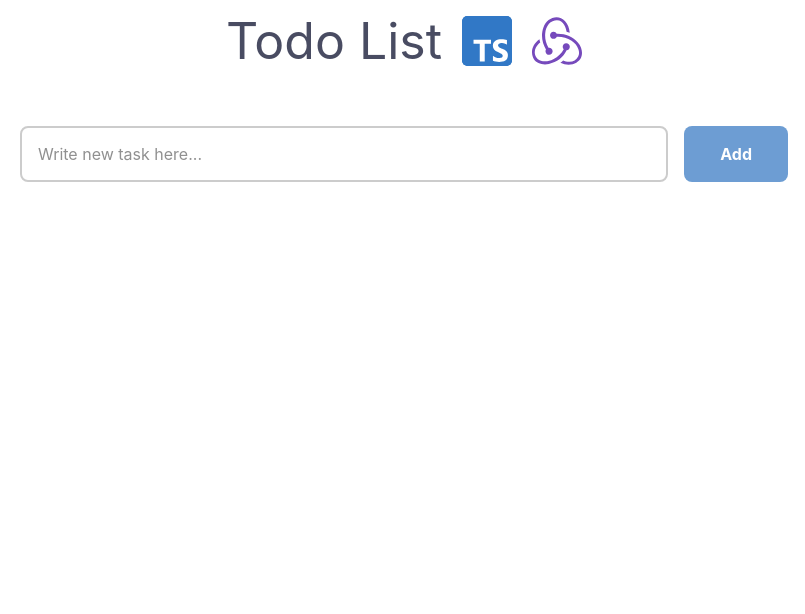
Scenario: My First E2E Test › checks if input still focused after creating todo
The width and height of the screenshot is (805, 614).
In the field with id "new-todo-input": (344, 154) [20,126,668,182], type "Todo number one"
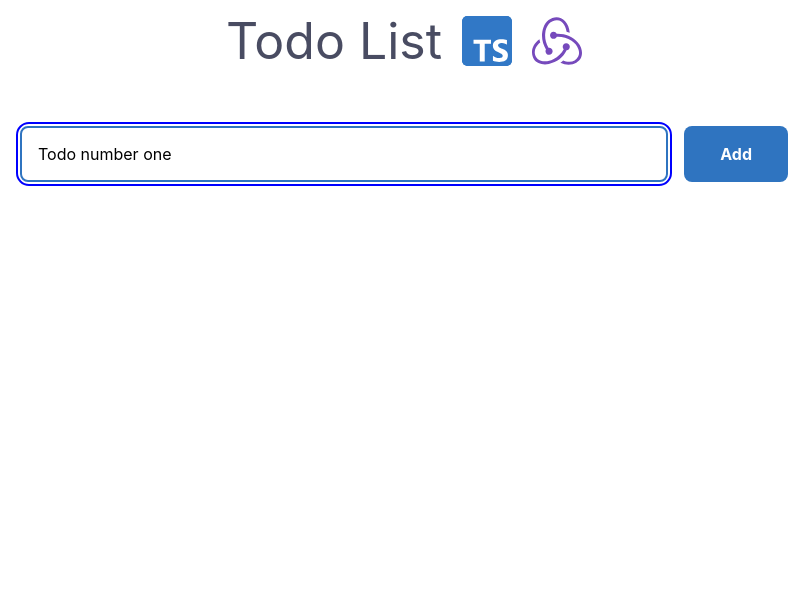
Click the button "Add": (736, 154) [684,126,788,182]
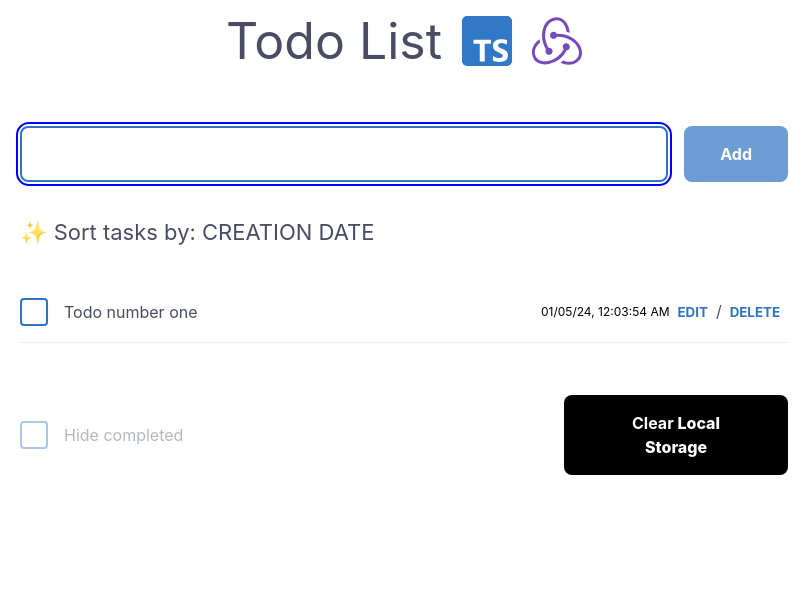
Expected: the checkbox "Todo number one" is shown, [64,300,198,324]
Expected: the number of elements with class "todo-item" is 1, [20,282,788,343]
In the field with id "new-todo-input": (344, 154) [20,126,668,182], type "Todo number two"
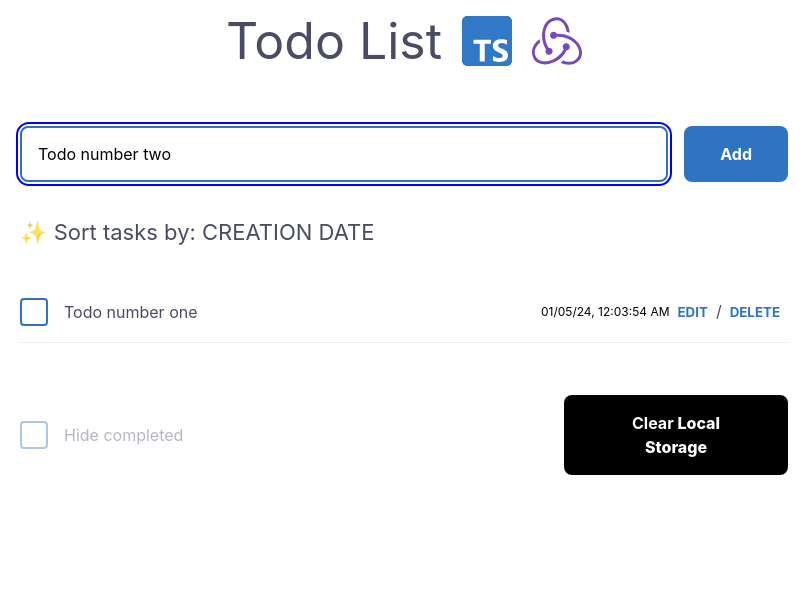
Click the button "Add": (736, 154) [684,126,788,182]
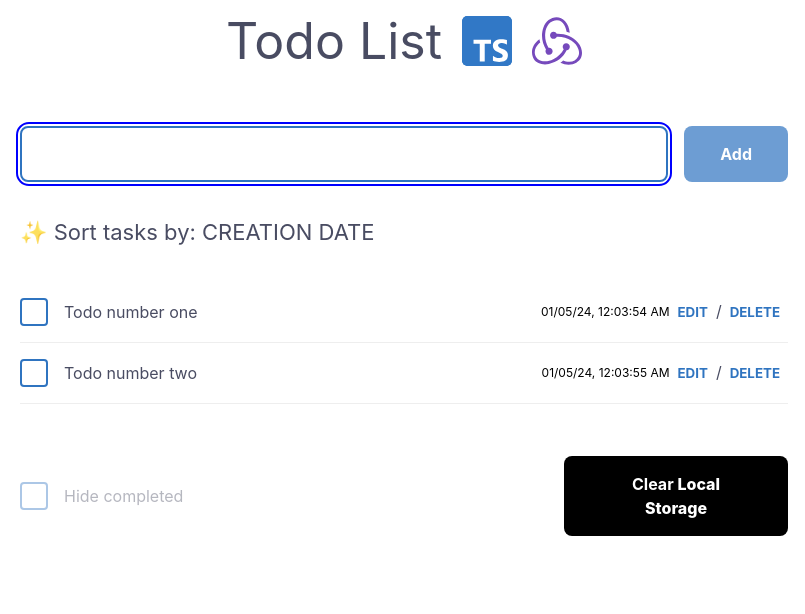
Expected: the checkbox "Todo number two" is shown, [64,361,197,385]
Expected: the number of elements with class "todo-item" is 2, [20,282,788,343]; [20,343,788,404]
In the field with id "new-todo-input": (344, 154) [20,126,668,182], type "Todo number three"
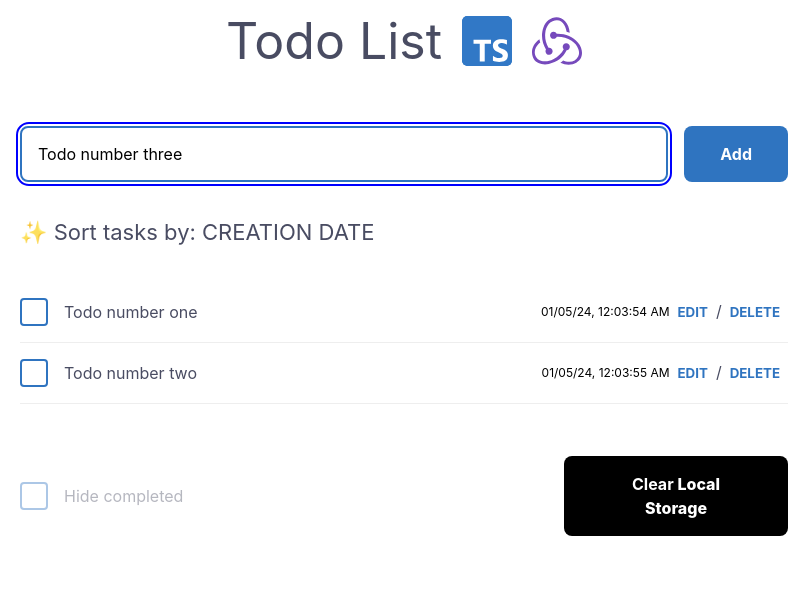
Click the button "Add": (736, 154) [684,126,788,182]
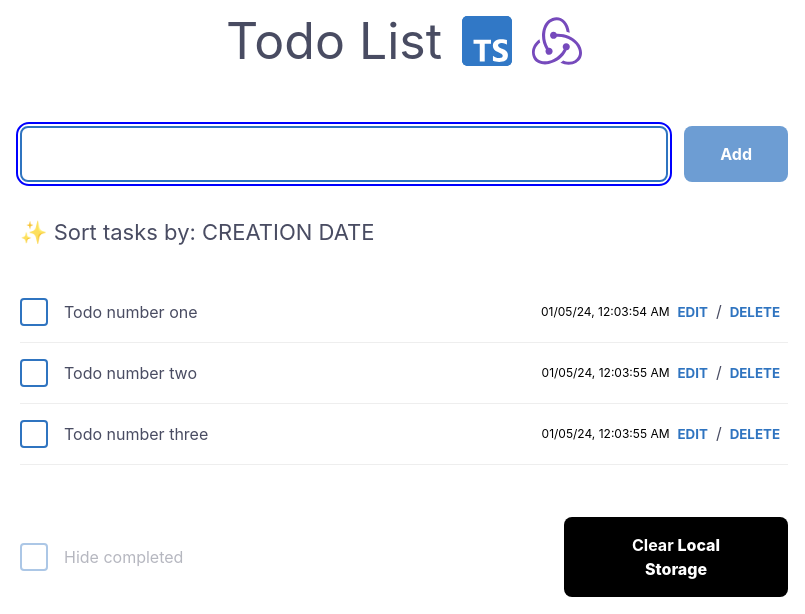
Expected: the checkbox "Todo number three" is shown, [64,422,208,446]
Expected: the number of elements with class "todo-item" is 3, [20,282,788,343]; [20,343,788,404]; [20,404,788,465]
